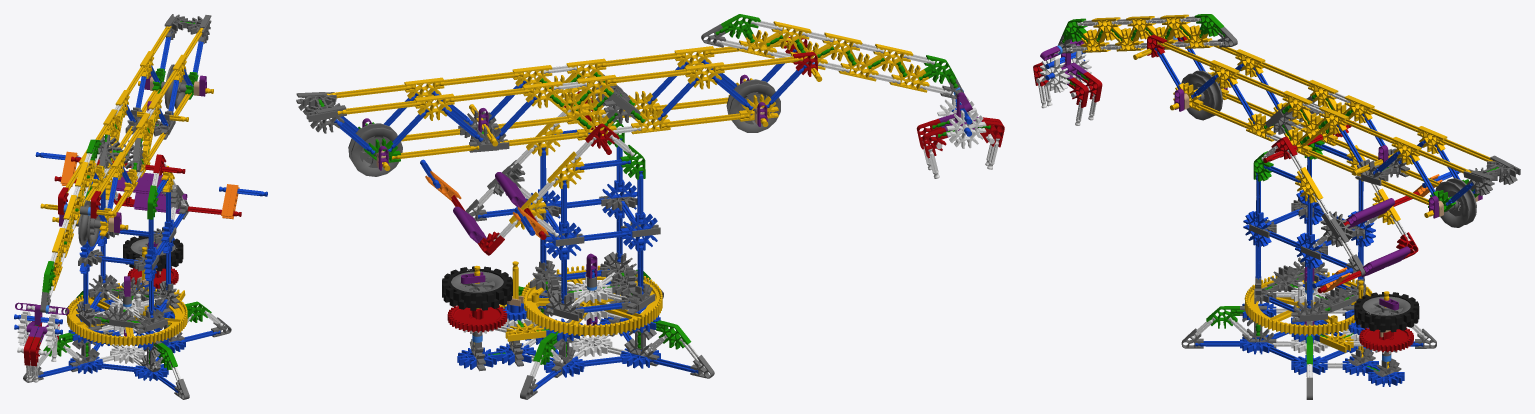
3 views of the same model, side by side, from view 1: azimuth 30°, elevation 25°; view 2: azimuth 150°, elevation 25°; view 3: azimuth 270°, elevation 25° (orthographic). The views are drawn at different scales.
Visible parts, largest first — view 1: B2_L19.003, B2_L19.007, B2_L19.002, B2_L19.001, B2_L19.004, B2_L19.008, B2_L19.005, B2_L19, B2_L19.011, B2_L19.009; view 2: B2_L19.007, B2_L19.003, B2_L19.002, B2_L19.001, B2_L19.004, B2_L19.008, B2_L19.005, B2_L19.011, B2_L19; view 3: B2_L19.007, B2_L19.003, B2_L19.002, B2_L19.001, B2_L19.008, B2_L19.004, B2_L19.005, B2_L19.011.
Part boxes in pixels (x1,y1,x2,y2): B2_L19.003: (23,14,231,399); B2_L19.007: (40,26,213,345); B2_L19.002: (14,32,267,392); B2_L19.001: (17,104,223,387); B2_L19.004: (32,21,211,369); B2_L19.008: (23,154,241,366); B2_L19.005: (15,75,206,342); B2_L19: (60,151,239,219); B2_L19.011: (123,236,183,271); B2_L19.009: (108,76,199,285); B2_L19.007: (326,21,929,348); B2_L19.003: (296,24,963,399); B2_L19.002: (334,49,972,392); B2_L19.001: (461,20,999,385); B2_L19.004: (318,14,990,364); B2_L19.008: (447,36,1004,332); B2_L19.005: (362,74,982,335); B2_L19.011: (442,266,512,310); B2_L19: (425,171,548,239); B2_L19.007: (1080,14,1494,368); B2_L19.003: (1058,27,1520,399); B2_L19.002: (1045,37,1475,386); B2_L19.001: (1036,16,1427,377); B2_L19.008: (1033,34,1419,352); B2_L19.004: (1043,14,1498,371); B2_L19.005: (1040,39,1482,325); B2_L19.011: (1354,292,1419,332).
Size of the model in its own units: 4.97 by 3.25 by 4.94.
